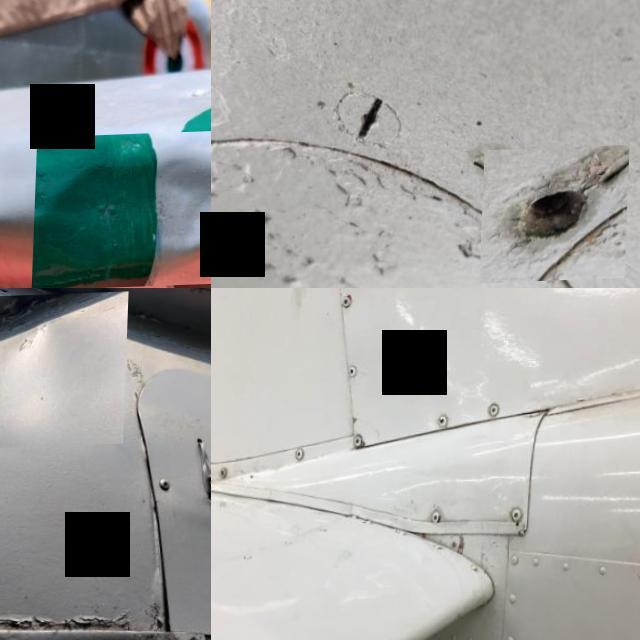Crack: (398, 516, 515, 596), (273, 288, 336, 361), (345, 402, 404, 461)
Dent: (34, 131, 211, 288), (0, 294, 129, 450)
Missing_Fastener: (484, 149, 633, 286)
